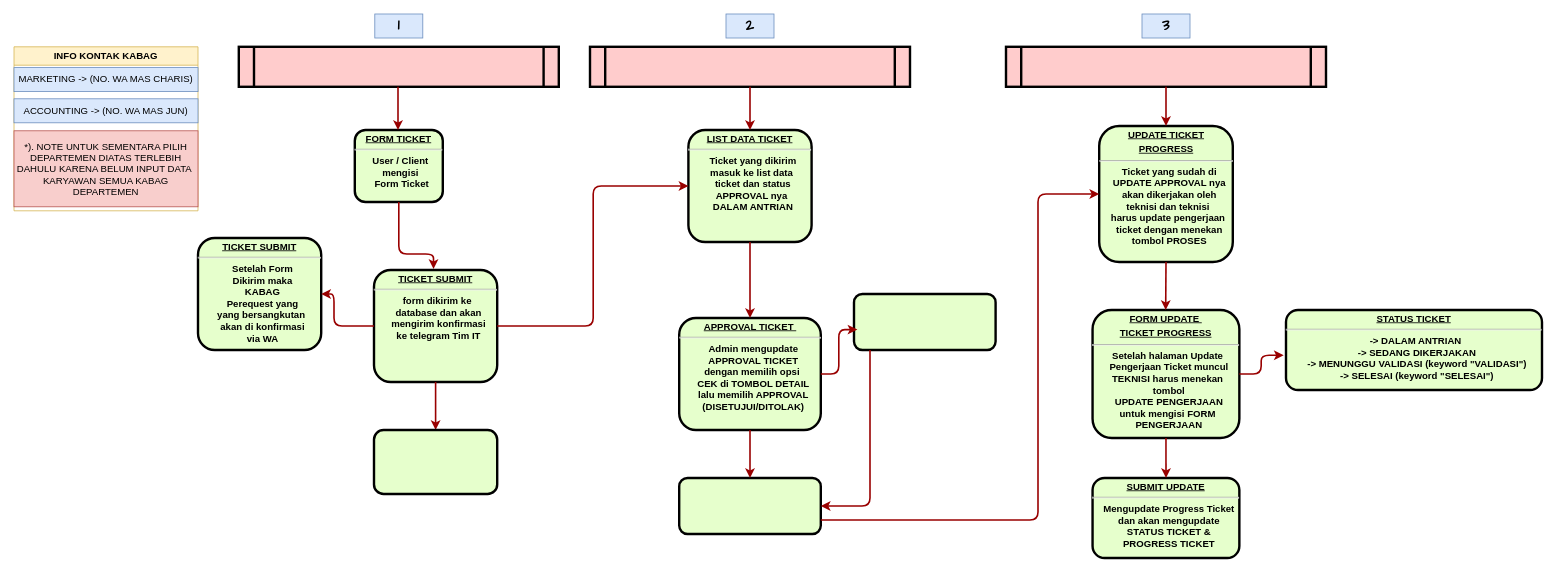
This 1557x573 diagram has some shape labels left out. The shapes that lost their labels are listed below. From the top down, each one's centre as x and y in pixels, then its label:
the point at 398,66: CLIENT REQUEST
the point at 749,66: ADMIN MANAJEMEN
the point at 1165,66: TEKNISI MANAJEMEN
the point at 924,321: TEKNISI TICKET Admin memilih TEKNISI untuk menghandle TICKET
the point at 435,461: REDIRECT CLIENT Client akan diarahkan ke halaman antrian ticket
the point at 750,505: UPDATE TICKET UPDATE APPROVAL TICKET & TEKNISI
